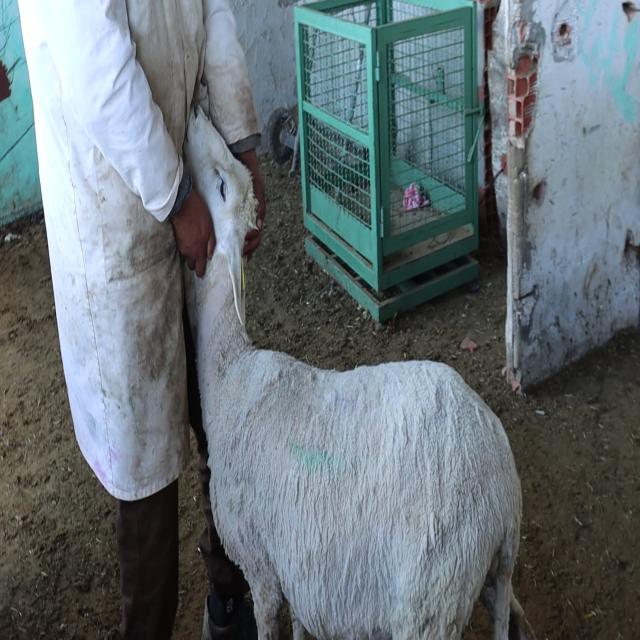Score_4: (185, 105, 534, 639)
